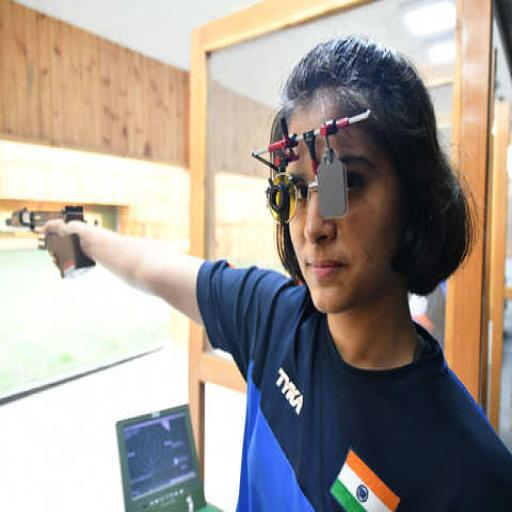shooting: (31, 32, 511, 510)
